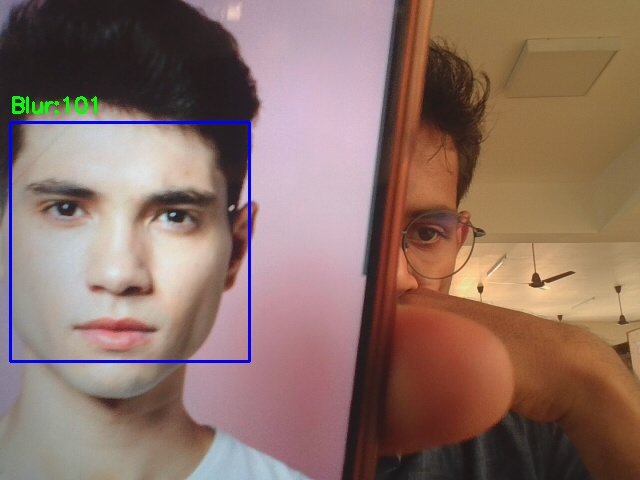fake: (10, 122, 249, 361)
